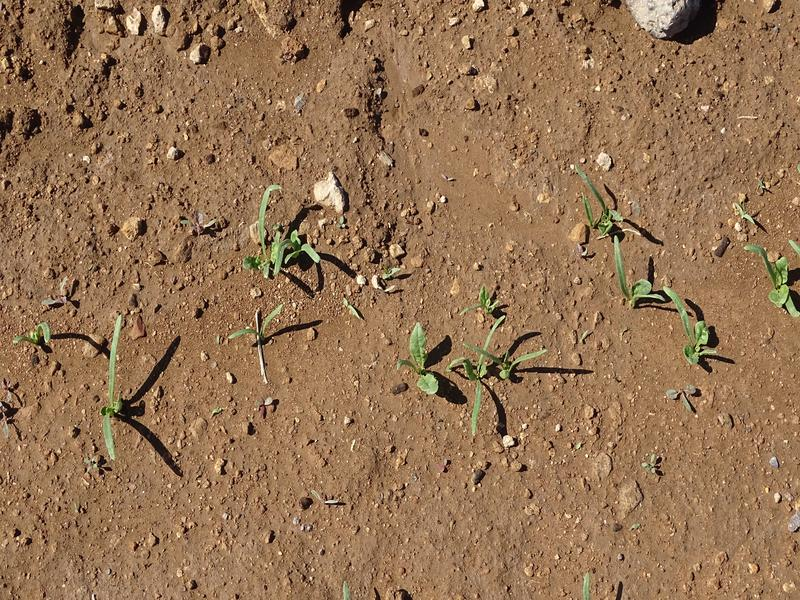Espinaca: (583, 168, 712, 363), (396, 281, 543, 430), (239, 190, 321, 273), (97, 316, 128, 465), (748, 237, 800, 317), (229, 304, 282, 342)
